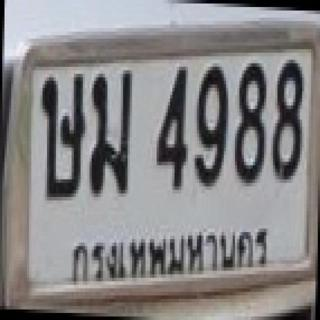A33: (88, 68, 139, 199)
A39: (37, 70, 90, 204)
N04: (150, 62, 194, 195)
N08: (234, 59, 270, 184), (270, 56, 302, 186)
N09: (192, 61, 230, 194)
P04: (60, 222, 274, 281)
